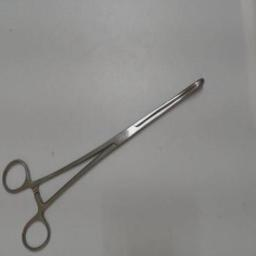Sponge Forceps: (0, 70, 212, 254)
